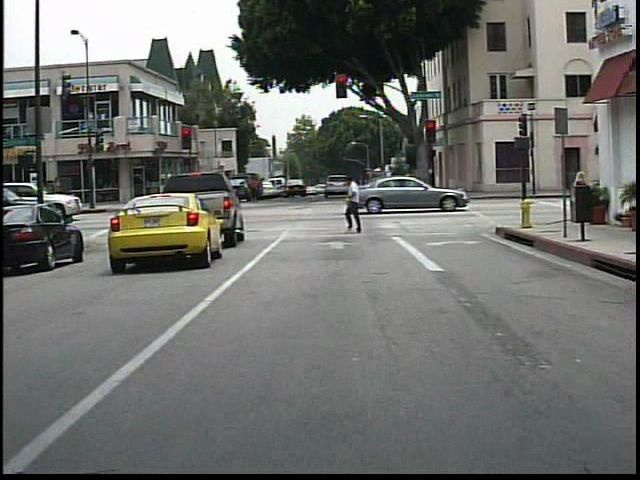person: (342, 174, 371, 235), (568, 169, 594, 221), (242, 170, 268, 210)
